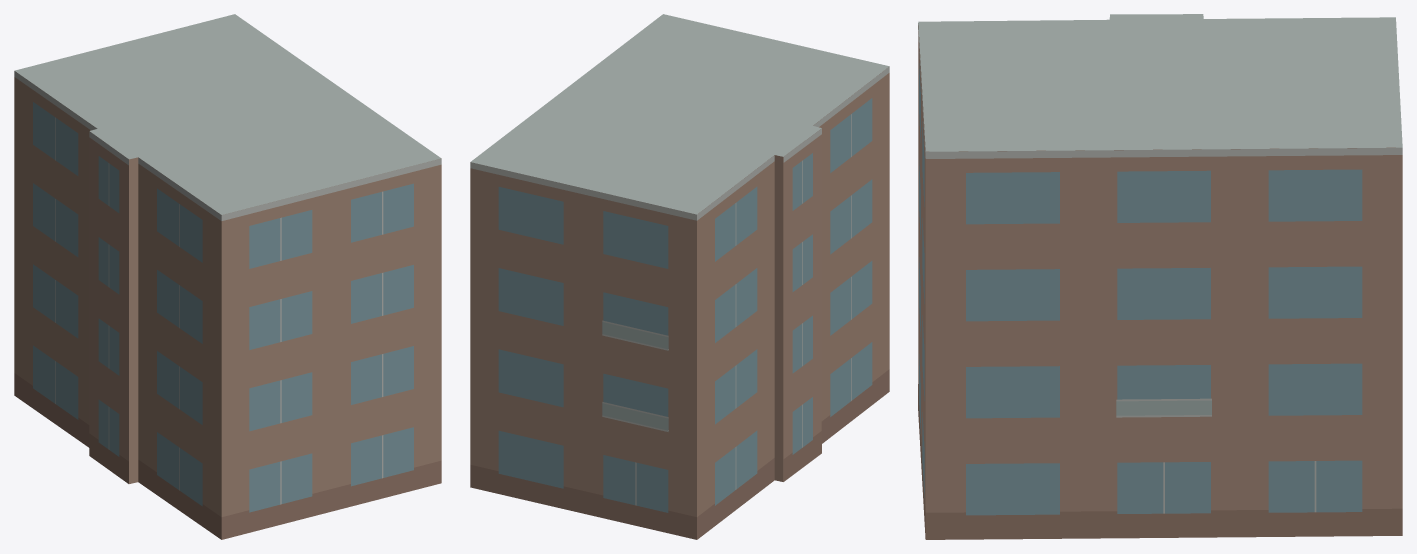
File: survey-upis-32649949.glb
3 renders of one model, left to right at view 1: azimuth 30°, elevation 25°; view 2: azimuth 150°, elevation 25°; view 3: azimuth 270°, elevation 25°, orthographic. The views are drawn at different scales.
Parts seen in each view (by area): view 1: survey-upis-32649949.tmp; view 2: survey-upis-32649949.tmp; view 3: survey-upis-32649949.tmp.
Part boxes in pixels (x1,y1,x2,y2): survey-upis-32649949.tmp: (14, 14, 441, 539); survey-upis-32649949.tmp: (470, 14, 889, 539); survey-upis-32649949.tmp: (918, 14, 1402, 539).
Bounding box in the file's own units: 9.83 × 12.9 × 14.6.
